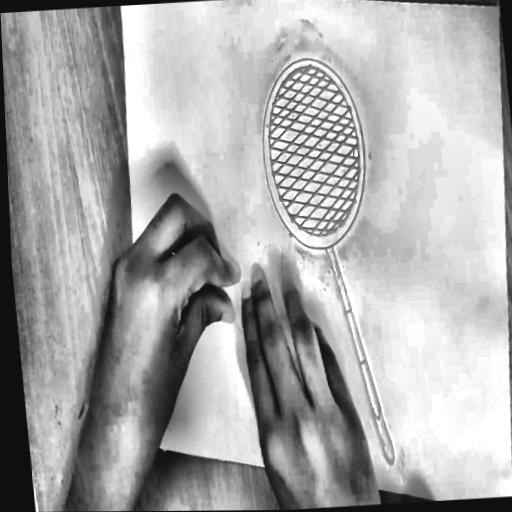badminton: (212, 37, 428, 488)
bottom_right: (134, 431, 143, 446)
top_left: (496, 4, 500, 13)
